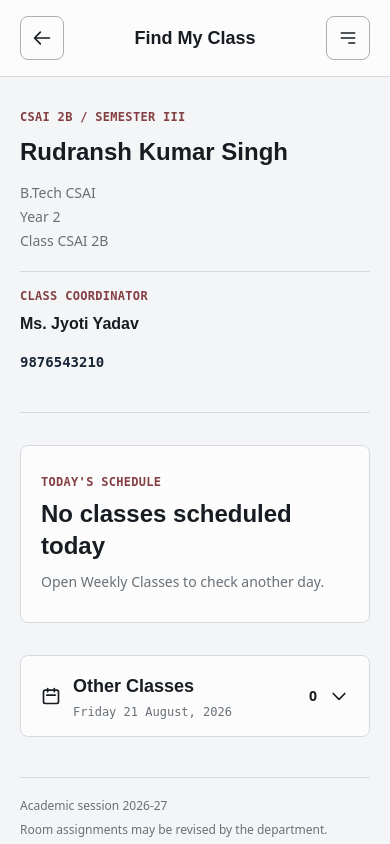
Test: ResultPage › keeps primary timetable interactions available at 390px (standard mobile)
Expected: the button "Other Classes Friday 21 August, 2026 0" is shown, [20, 655, 370, 737]
Expected: the button named "Search again" is shown, [20, 16, 64, 60]
Click the button named "Open schedule menu" at (348, 38), box [326, 16, 370, 60]
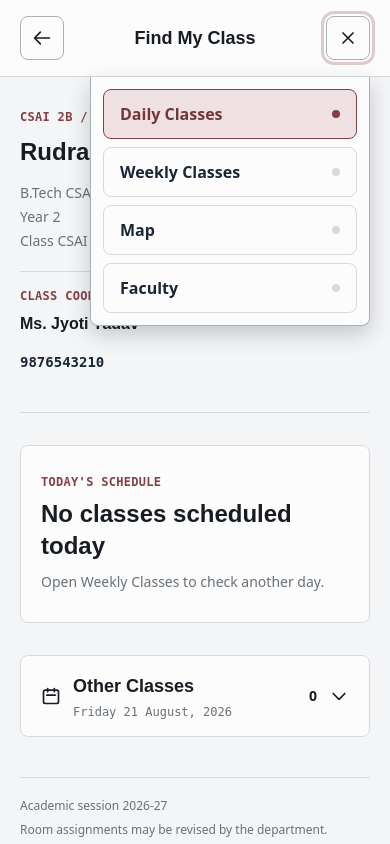
Expected: the button "Weekly Classes" is shown, [103, 147, 357, 197]
